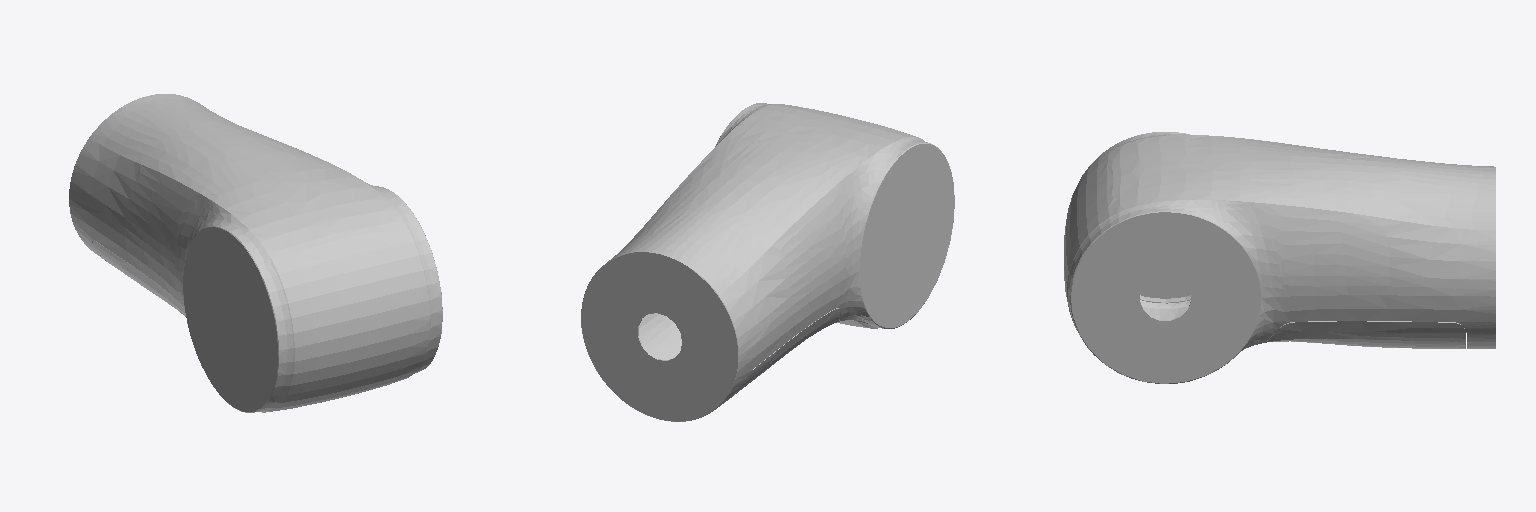
3 views of the same model, side by side, from view 1: azimuth 30°, elevation 25°; view 2: azimuth 150°, elevation 25°; view 3: azimuth 270°, elevation 25° (orthographic).
Parts seen in each view (by area): view 1: left_shoulder_roll_link; view 2: left_shoulder_roll_link; view 3: left_shoulder_roll_link.
Boxes of the visible parts, x1,y1,x2,y2 form: left_shoulder_roll_link: [69, 94, 442, 412]; left_shoulder_roll_link: [581, 103, 954, 421]; left_shoulder_roll_link: [1064, 132, 1495, 383].
Bounding box in the file's own units: 0.077 × 0.0842 × 0.1753.